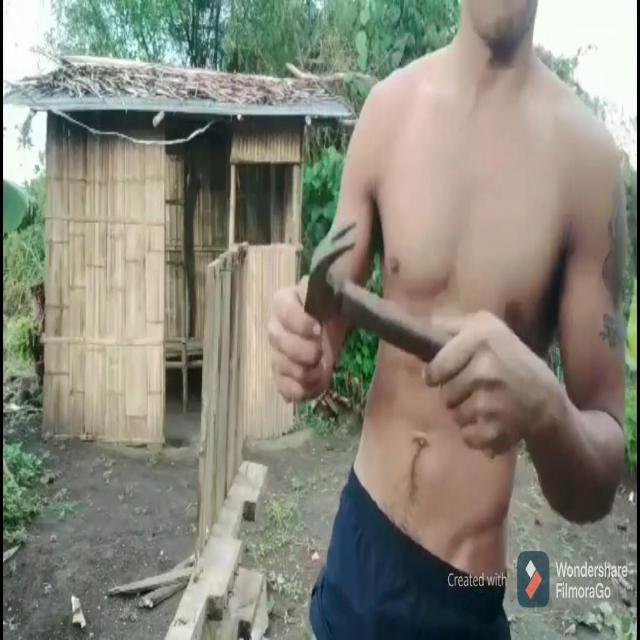hammer: (300, 219, 470, 382)
